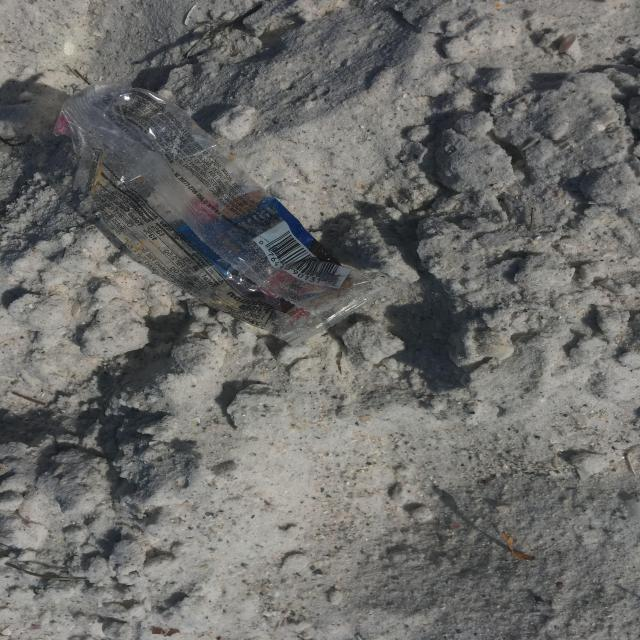litter: (53, 78, 386, 346)
